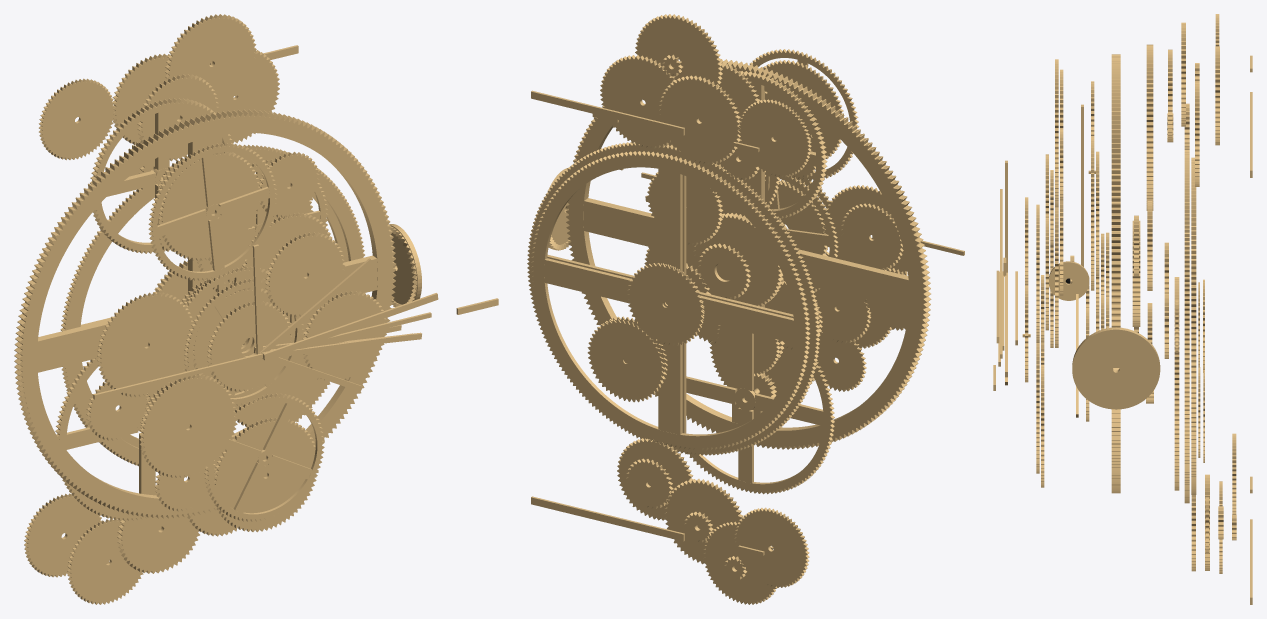
File: antikythera.glb
3 views of the same model, side by side, from view 1: azimuth 30°, elevation 25°; view 2: azimuth 150°, elevation 25°; view 3: azimuth 270°, elevation 25° (orthographic). The views are drawn at different scales.
Visible parts, largest first — view 1: b1, ju64, ju65a, ma71, e3, sa68, sa86a, p1, sa52, ma80a, o1, fix56 (+29 smaller); view 2: e4, b1, e3, d2, n2, e6, k2, cal1, i1, o1, p1, b2 (+26 smaller); view 3: a1, b1, e3, e4, m1, d2, q1, b2, me89, sa86a, sa86b, ma80b (+15 smaller).
Boxes of the visible parts, box(x1,y1,x2,y2) form: b1: box(14, 109, 396, 518); ju64: box(139, 374, 236, 478); ju65a: box(97, 292, 194, 397); ma71: box(213, 417, 318, 532); e3: box(60, 144, 364, 466); sa68: box(158, 152, 261, 260); sa86a: box(148, 143, 277, 281); p1: box(165, 14, 256, 107); sa52: box(265, 232, 344, 317); ma80a: box(204, 393, 324, 522); o1: box(39, 78, 114, 160); fix56: box(207, 301, 292, 392); e4: box(531, 151, 810, 450); b1: box(565, 59, 931, 449); e3: box(527, 142, 820, 455); d2: box(686, 330, 834, 494); n2: box(658, 75, 740, 164); e6: box(627, 263, 704, 345); k2: box(587, 319, 664, 402); cal1: box(600, 55, 675, 148); i1: box(734, 507, 809, 587); o1: box(738, 99, 811, 177); p1: box(635, 14, 722, 87); b2: box(693, 213, 783, 306); a1: box(1072, 327, 1160, 409); b1: box(1111, 54, 1120, 493); e3: box(1184, 150, 1189, 503); e4: box(1191, 157, 1196, 494); m1: box(1146, 44, 1153, 210); d2: box(1174, 277, 1179, 490); q1: box(1049, 261, 1089, 300); b2: box(1132, 220, 1140, 326); me89: box(1091, 137, 1094, 290); sa86a: box(1055, 59, 1058, 207); sa86b: box(1055, 207, 1058, 347); ma80b: box(1036, 204, 1039, 342).
Size of the model in its own units: 145 by 191 by 76.8.
